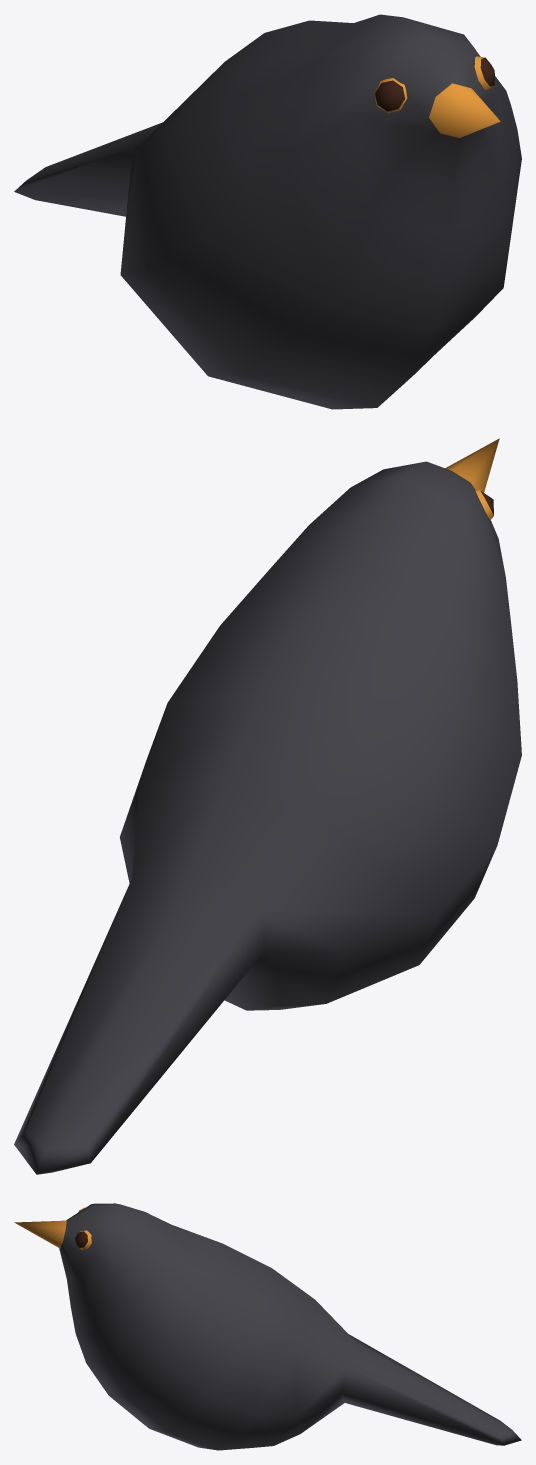
Rendered from Blackbird_m.glb.
3 renders of one model, top to bottom at view 1: azimuth 30°, elevation 25°; view 2: azimuth 150°, elevation 25°; view 3: azimuth 270°, elevation 25°, orthographic. The views are drawn at different scales.
Visible parts, largest first — view 1: Black_Bird_male; view 2: Black_Bird_male; view 3: Black_Bird_male.
Part boxes in pixels (x1,y1,x2,y2): Black_Bird_male: [14, 14, 521, 409]; Black_Bird_male: [14, 438, 521, 1174]; Black_Bird_male: [14, 1203, 521, 1450].
Bounding box in the file's own units: 0.2999 × 0.3631 × 0.6871.
Materials: 1 (1 with a texture image).
